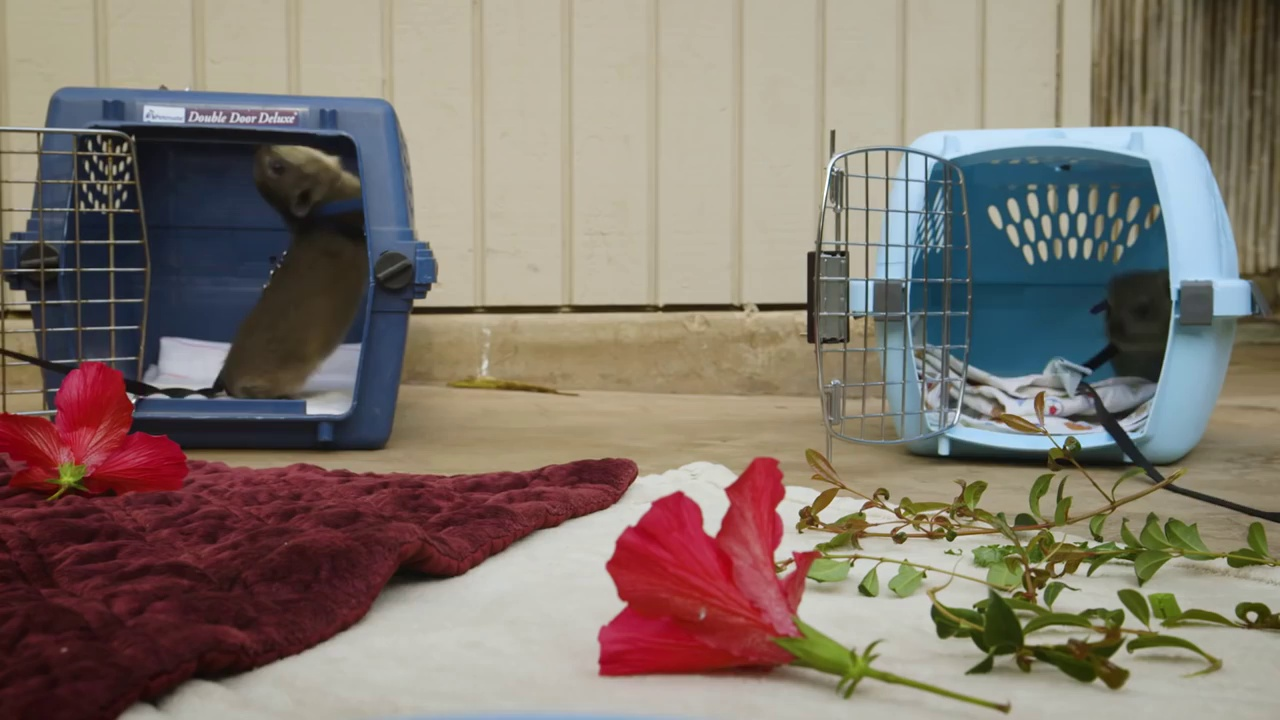Rock Hyrex: (218, 132, 370, 413), (1094, 267, 1183, 384)
